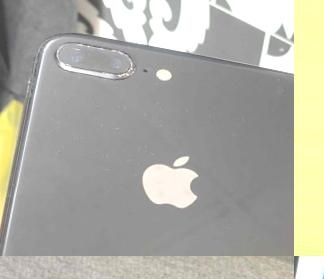scratch: (22, 26, 146, 123), (137, 78, 294, 152), (23, 107, 174, 181), (264, 71, 294, 106)
screen_defect: (294, 72, 324, 175), (294, 171, 324, 256), (294, 0, 324, 55)
